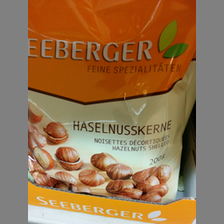nuts: (28, 1, 196, 202)
